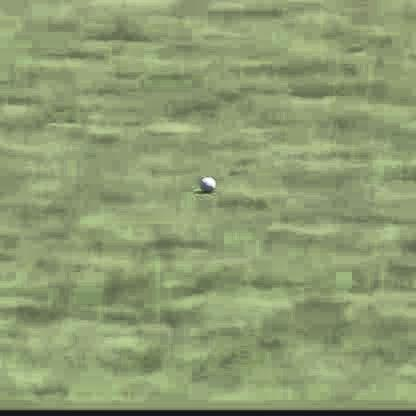golfball: (197, 175, 216, 193)
